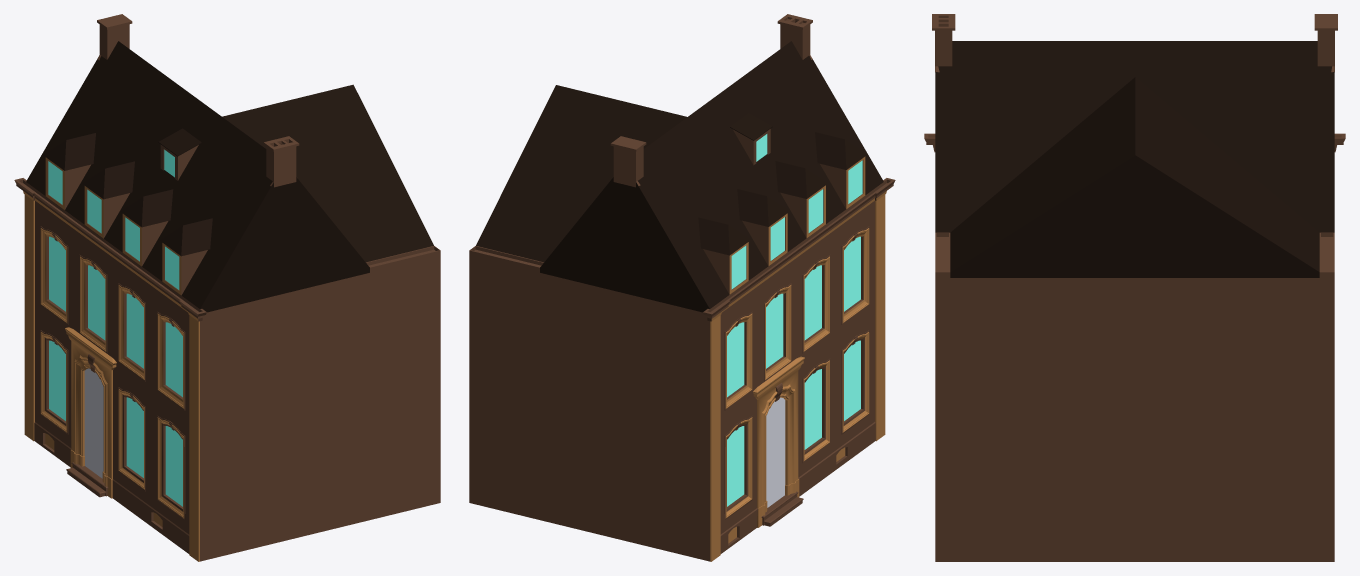
File: House_04.FBX
3 renders of one model, left to right at view 1: azimuth 30°, elevation 25°; view 2: azimuth 150°, elevation 25°; view 3: azimuth 270°, elevation 25°, orthographic. The views are drawn at different scales.
Parts seen in each view (by area): view 1: House_04; view 2: House_04; view 3: House_04.
Part boxes in pixels (x1,y1,x2,y2): House_04: [14, 14, 440, 561]; House_04: [469, 14, 895, 561]; House_04: [924, 14, 1345, 561].
Size of the model in its own units: 14.4 by 18.27 by 21.7.
